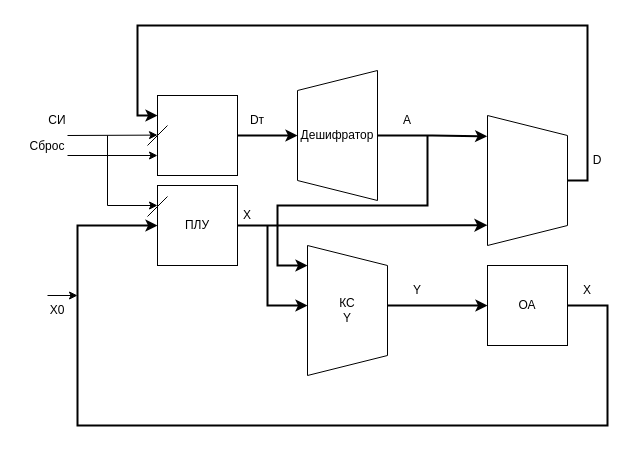
Some shapes in this 644 by 451 pixel diagram are drawn without their labels. The box of each missing label's shape, as (x1, y1, x2, y2) in pixels:
КС D: (486, 114, 568, 246)
ПС: (156, 94, 238, 176)
